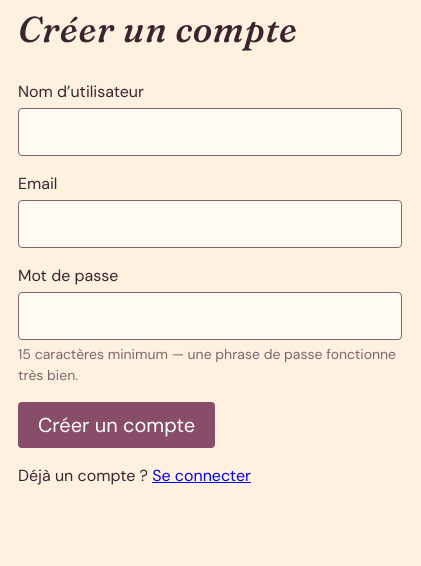
Test: RegisterPage › bloque la soumission si le mot de passe est identique au nom d’utilisateur, sans appeler l’API
Type "marcelproustcombray" into the field labelled "Nom d’utilisateur". click: (210, 132)
box: [18, 108, 402, 156]
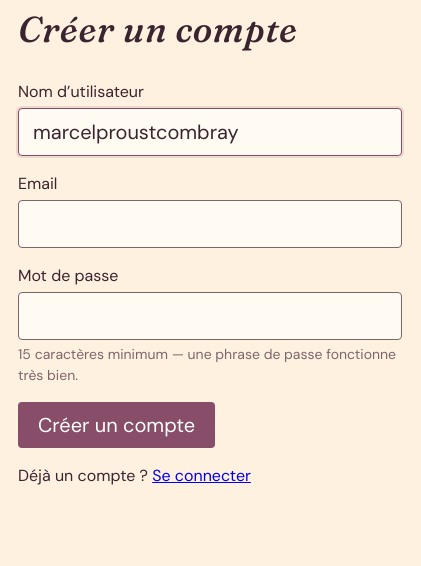
Type "marcel@example.com" into the field labelled "Email". click: (210, 224)
box: [18, 200, 402, 248]
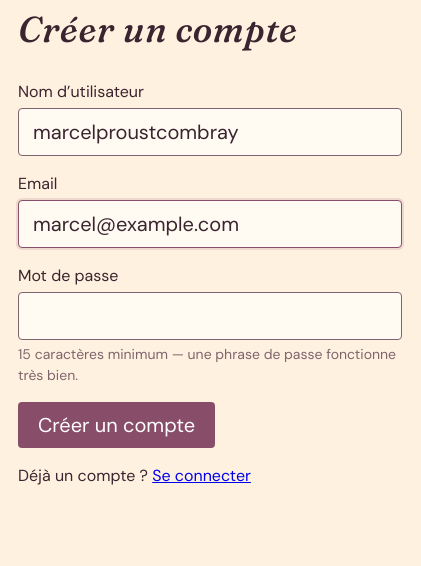
Type "marcelproustcombray" into the password field labelled "Mot de passe". click: (210, 316)
box: [18, 292, 402, 340]
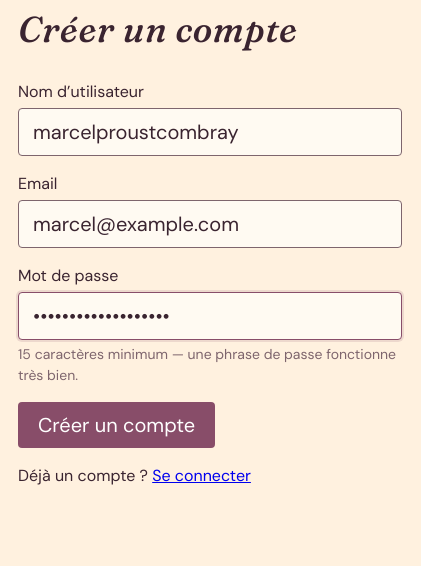
Click the button "Créer un compte". click: (117, 425)
box: [18, 402, 215, 448]
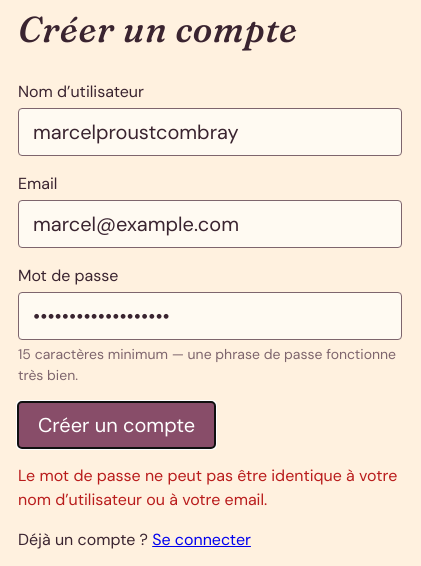
Now the text "Le mot de passe ne peut pas être identique à votre nom d’utilisateur ou à votre email." is shown, box [18, 465, 397, 510]
